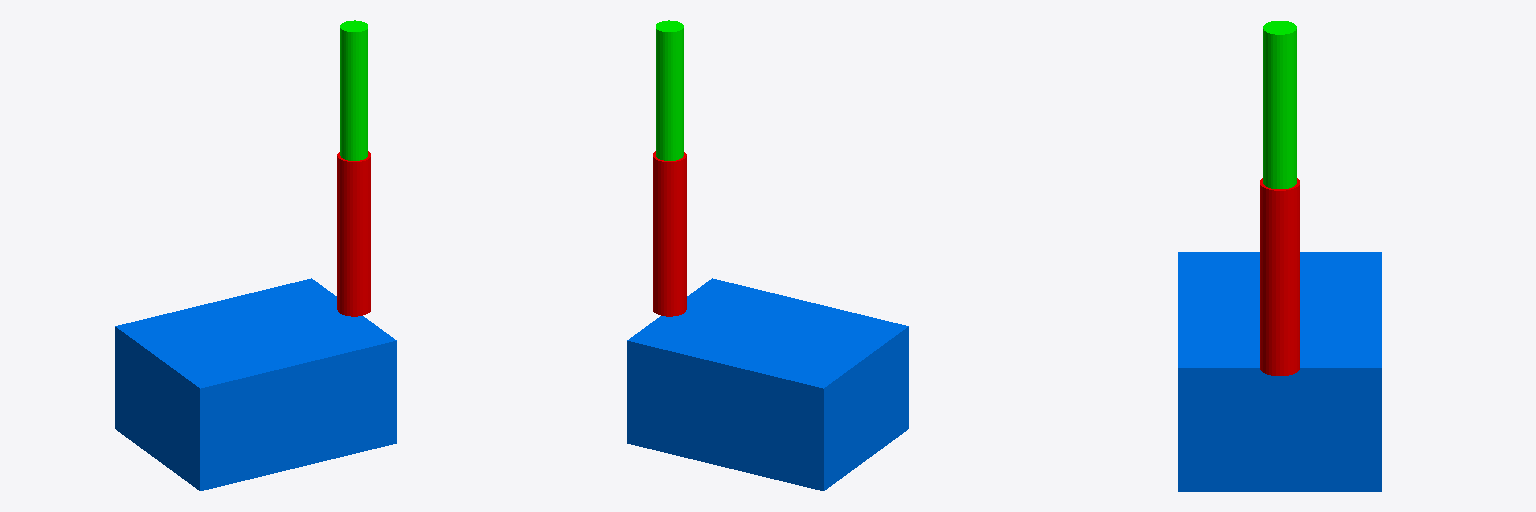
URDF robot description (floating_base_robot):
<?xml version="1.0"?>
<!-- Robot with floating base for testing floating joint handling -->
<robot name="floating_base_robot">
  <link name="world"/>

  <link name="floating_body">
    <visual>
      <geometry>
        <box size="0.4 0.3 0.2"/>
      </geometry>
      <material name="blue">
        <color rgba="0 0.5 1 1"/>
      </material>
    </visual>
    <collision>
      <geometry>
        <box size="0.4 0.3 0.2"/>
      </geometry>
    </collision>
    <inertial>
      <mass value="20.0"/>
      <inertia ixx="0.5" ixy="0" ixz="0" iyy="0.7" iyz="0" izz="0.8"/>
    </inertial>
  </link>

  <link name="arm1">
    <visual>
      <geometry>
        <cylinder radius="0.03" length="0.3"/>
      </geometry>
      <origin xyz="0 0 0.15" rpy="0 0 0"/>
      <material name="red">
        <color rgba="1 0 0 1"/>
      </material>
    </visual>
    <inertial>
      <mass value="1.0"/>
      <origin xyz="0 0 0.15" rpy="0 0 0"/>
      <inertia ixx="0.01" ixy="0" ixz="0" iyy="0.01" iyz="0" izz="0.001"/>
    </inertial>
  </link>

  <link name="arm2">
    <visual>
      <geometry>
        <cylinder radius="0.025" length="0.25"/>
      </geometry>
      <origin xyz="0 0 0.125" rpy="0 0 0"/>
      <material name="green">
        <color rgba="0 1 0 1"/>
      </material>
    </visual>
    <inertial>
      <mass value="0.5"/>
      <origin xyz="0 0 0.125" rpy="0 0 0"/>
      <inertia ixx="0.005" ixy="0" ixz="0" iyy="0.005" iyz="0" izz="0.0005"/>
    </inertial>
  </link>

  <!-- Floating joint gives 6-DOF freedom (x, y, z, roll, pitch, yaw) -->
  <joint name="floating_joint" type="floating">
    <parent link="world"/>
    <child link="floating_body"/>
    <origin xyz="0 0 0.5" rpy="0 0 0"/>
  </joint>

  <joint name="shoulder" type="revolute">
    <parent link="floating_body"/>
    <child link="arm1"/>
    <origin xyz="0.2 0 0.1" rpy="0 0 0"/>
    <axis xyz="0 1 0"/>
    <limit lower="-1.57" upper="1.57" effort="50" velocity="2"/>
  </joint>

  <joint name="elbow" type="revolute">
    <parent link="arm1"/>
    <child link="arm2"/>
    <origin xyz="0 0 0.3" rpy="0 0 0"/>
    <axis xyz="0 1 0"/>
    <limit lower="-2.0" upper="2.0" effort="30" velocity="2"/>
  </joint>
</robot>

--- Facts derived from the render (not from the file) ---
3 views of the same robot in one strip: view 1: azimuth 30°, elevation 25°; view 2: azimuth 150°, elevation 25°; view 3: azimuth 270°, elevation 25° (orthographic).
Robot: floating_base_robot — 4 links, 3 joints (2 revolute, 1 floating); root link world; default pose: all joints at 0.
Visible links, largest first — view 1: floating_body, arm1, arm2; view 2: floating_body, arm1, arm2; view 3: floating_body, arm1, arm2.
Boxes of the visible links, box(x1,y1,x2,y2) form: floating_body: box(115, 278, 396, 490); arm1: box(337, 151, 370, 316); arm2: box(340, 20, 367, 160); floating_body: box(627, 278, 908, 490); arm1: box(653, 151, 686, 316); arm2: box(656, 20, 683, 160); floating_body: box(1178, 252, 1381, 491); arm1: box(1260, 178, 1299, 375); arm2: box(1263, 21, 1296, 188).
Size in the robot's own frame: 0.43 by 0.3 by 0.75 metres.
Geometry: primitives only (box / cylinder / sphere), no mesh files.